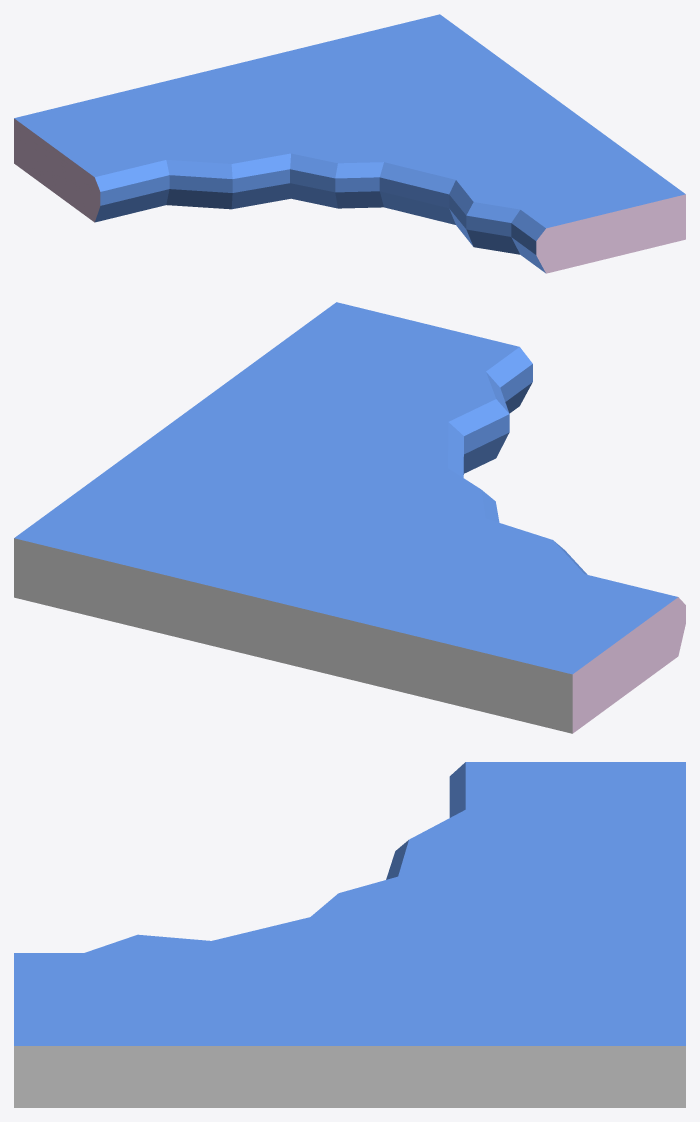
Rendered from Iceberg_Curve_Inner_4x4_1.glb.
3 views of the same model, one above another, from view 1: azimuth 30°, elevation 25°; view 2: azimuth 150°, elevation 25°; view 3: azimuth 270°, elevation 25° (orthographic). The views are drawn at different scales.
Visible parts, largest first — view 1: Iceberg_Curve_Inner_4x4_1; view 2: Iceberg_Curve_Inner_4x4_1; view 3: Iceberg_Curve_Inner_4x4_1.
Part boxes in pixels (x1,y1,x2,y2): Iceberg_Curve_Inner_4x4_1: [14, 14, 685, 273]; Iceberg_Curve_Inner_4x4_1: [14, 302, 685, 733]; Iceberg_Curve_Inner_4x4_1: [14, 762, 685, 1107].
Bounding box in the file's own units: 400 × 40.63 × 400.
